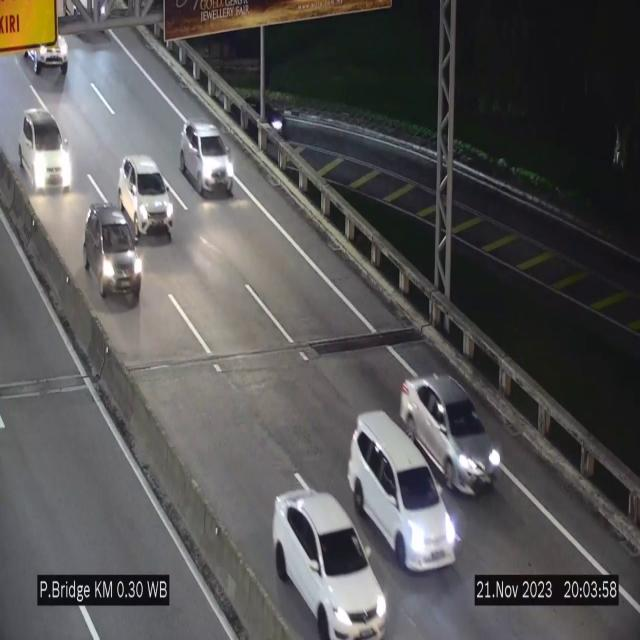Car: (272, 490, 388, 640), (348, 413, 457, 572), (400, 376, 502, 494), (80, 195, 144, 313), (16, 106, 75, 198), (118, 156, 174, 240), (180, 121, 234, 196)
